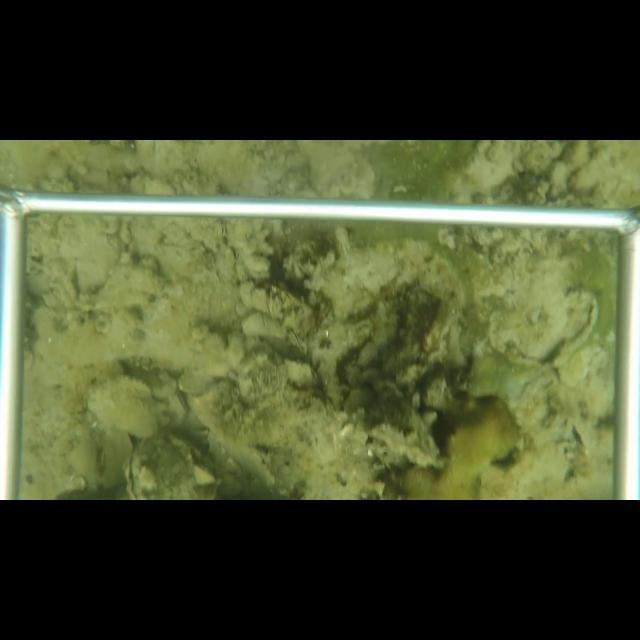Oyster-Closed: (87, 374, 163, 439), (171, 388, 191, 423), (287, 326, 309, 356)
Oyster-Open: (479, 290, 601, 372), (123, 440, 149, 499)
